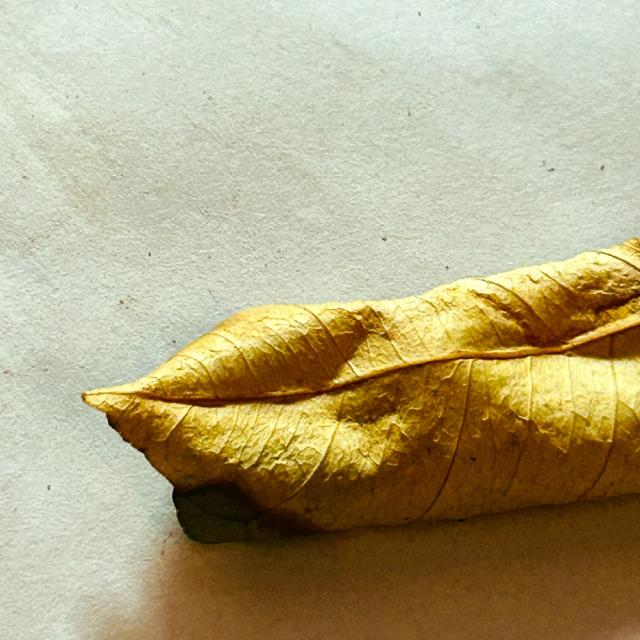DryLeaf_Lemon: (83, 238, 639, 541)
